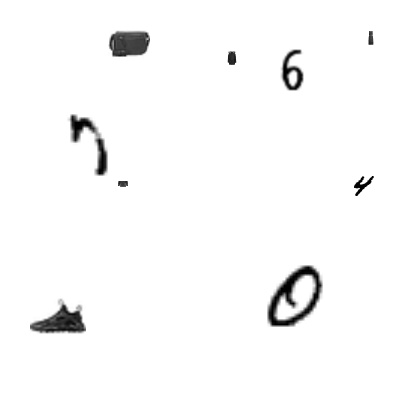0: (250, 254, 334, 338)
4: (348, 171, 376, 199)
6: (263, 42, 319, 98)
7: (47, 97, 131, 181)
Bag: (108, 22, 150, 64)
Coat: (225, 51, 239, 65), (116, 173, 130, 187)
Dress: (364, 31, 378, 45)
Sneaker: (30, 287, 86, 343)
